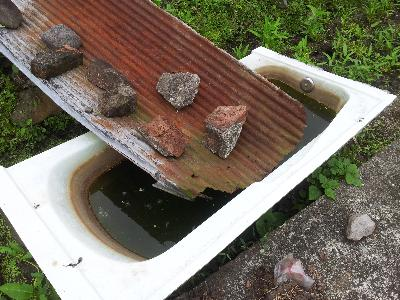tub: (1, 44, 398, 299)
